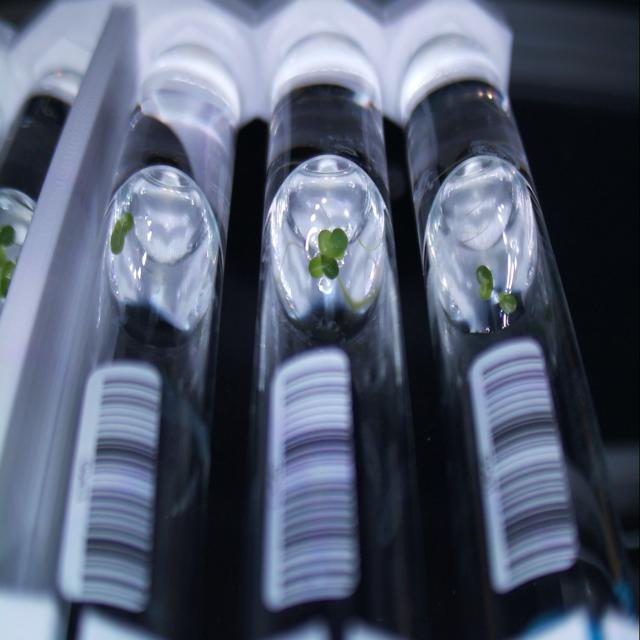Lemna-Gibba: (0, 225, 15, 298), (110, 212, 134, 255), (328, 228, 349, 260), (476, 265, 494, 300), (496, 290, 518, 314), (321, 255, 339, 279), (309, 255, 324, 279), (0, 225, 15, 247), (319, 228, 331, 255)
